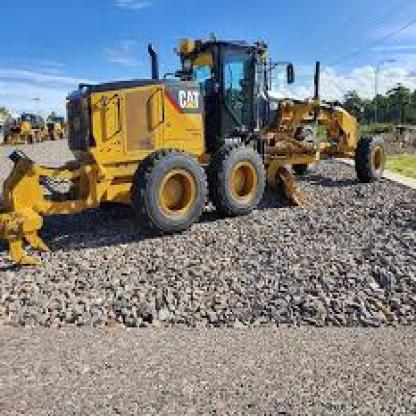bull_dozer/loader/grader: (13, 31, 398, 273)
